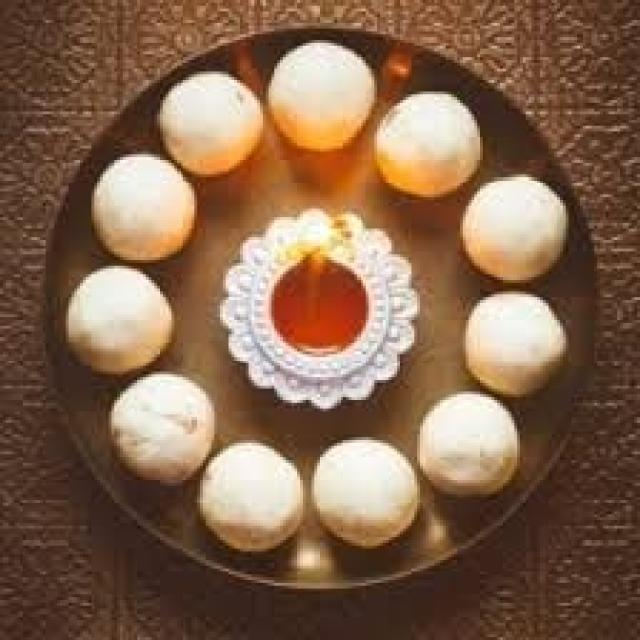poorna kolukattai: (59, 35, 588, 597)
